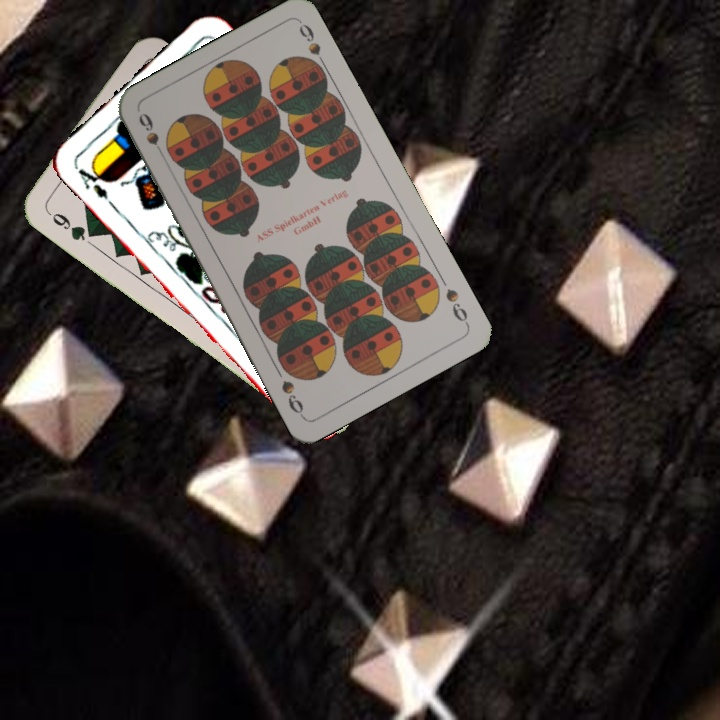EA: (71, 159, 111, 202)
G9: (41, 204, 95, 244)
S9: (134, 108, 170, 164), (441, 284, 472, 328)
